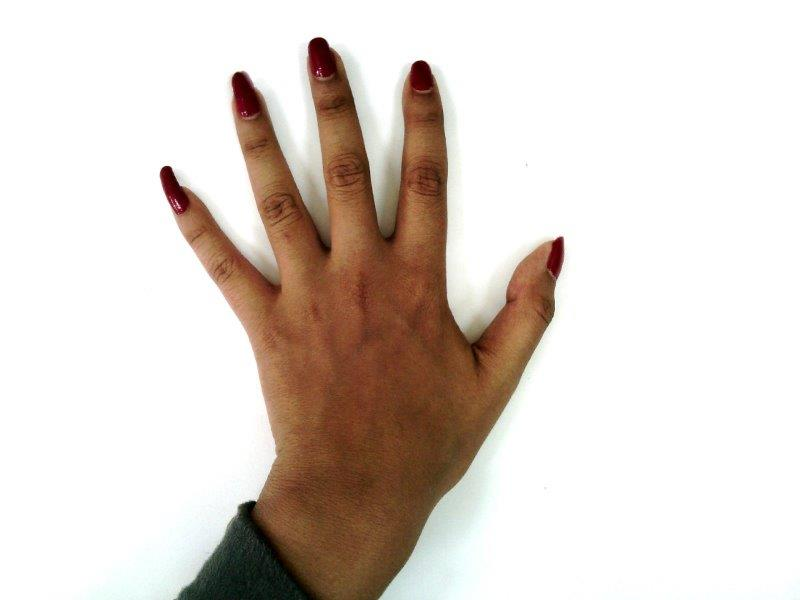hand: (162, 38, 564, 509)
